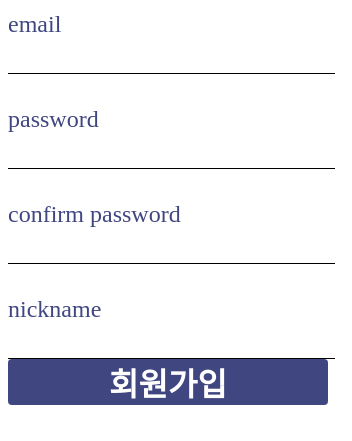
Test case: Component/Organism/SignupForm › 비밀번호를 제대로 입력하지 않을 경우
This screenshot has width=352, height=441.
Step 1. Type "qkrdmstlr3@naver.com" into the field labelled "email" → point(172, 56), box x1=8 y1=38 x2=335 y2=74
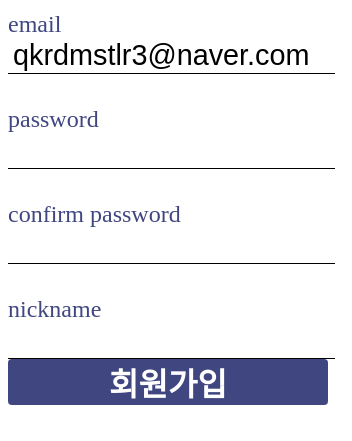
Step 2. Type "shellboy" into the field labelled "nickname" → point(172, 341), box x1=8 y1=323 x2=335 y2=359
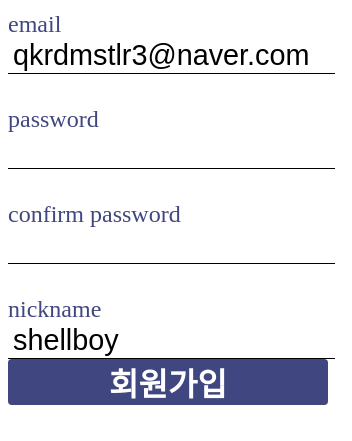
Step 3. Type "1q2w" into the password field labelled "password" → point(172, 151), box x1=8 y1=133 x2=335 y2=169
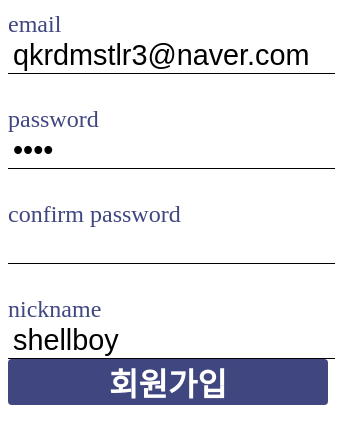
Step 4. Click the button "회원가입" → point(168, 382), box x1=8 y1=359 x2=328 y2=405
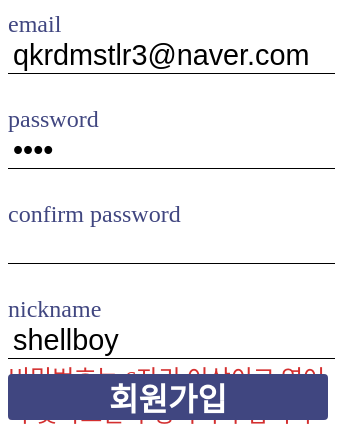
Expected: the text "비밀번호는 6자리 이상이고 영어와 숫자로만 구성되어야 합니다" is shown, x1=8 y1=359 x2=328 y2=374
